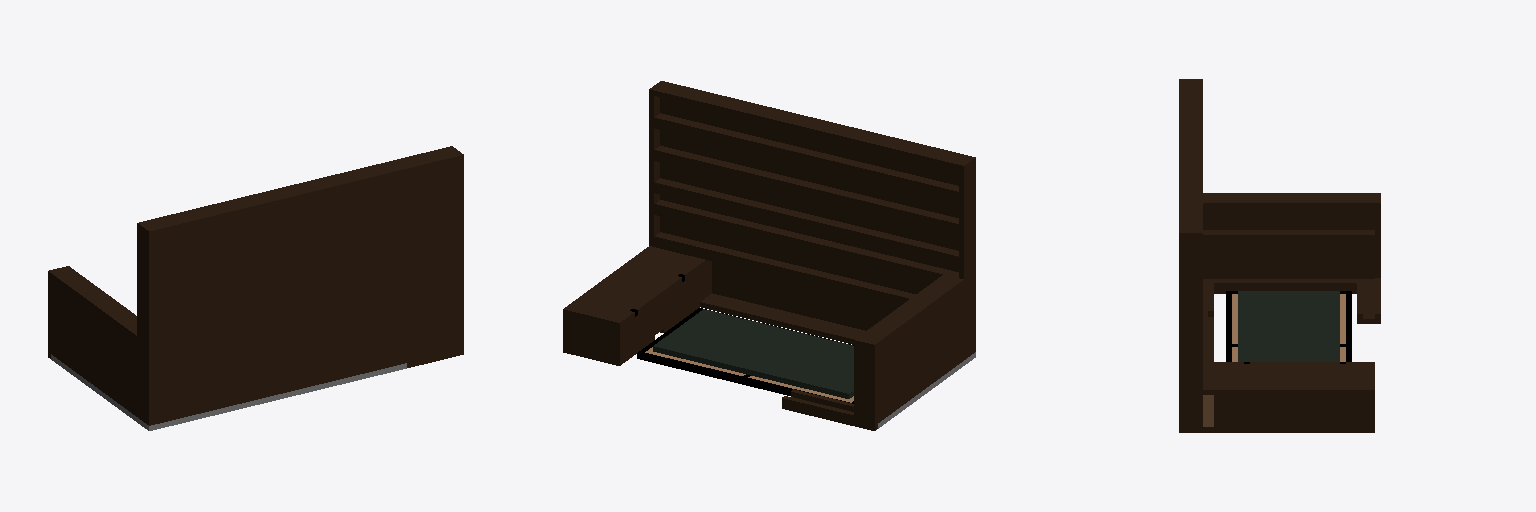
3 views of the same model, side by side, from view 1: azimuth 30°, elevation 25°; view 2: azimuth 150°, elevation 25°; view 3: azimuth 270°, elevation 25° (orthographic).
Visible parts, largest first — view 1: object 1; view 2: object 1; view 3: object 1.
Boxes of the visible parts, x1=… form: object 1: x1=48, y1=146, x2=463, y2=430; object 1: x1=563, y1=81, x2=975, y2=430; object 1: x1=1179, y1=79, x2=1380, y2=432.
Size of the model in its own units: 6.1 by 3.7 by 3.4.
Materials: 1 (1 with a texture image).